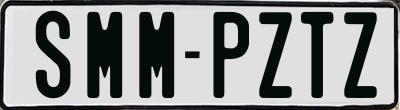M: (86, 10, 124, 96), (136, 9, 172, 95)
P: (211, 11, 252, 101)
S: (34, 9, 71, 100)
T: (298, 12, 334, 98)
Z: (344, 12, 381, 100), (256, 12, 290, 101)
